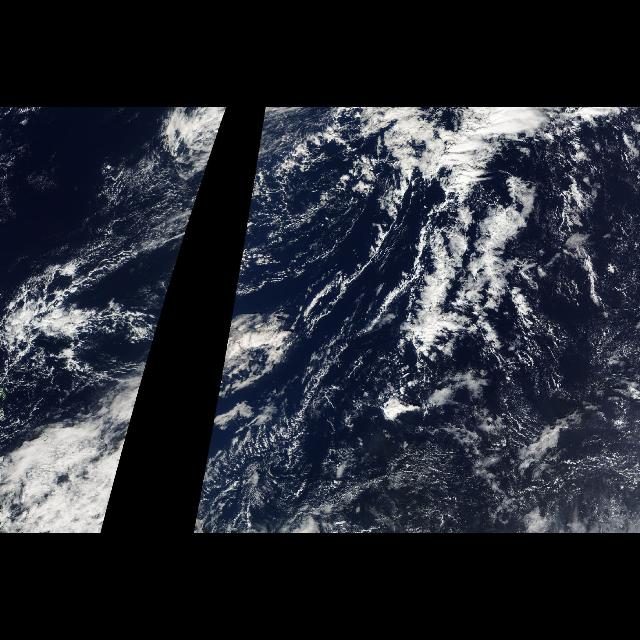Fish: (276, 186, 586, 420)
Gravel: (284, 404, 640, 524)
Sugar: (315, 423, 471, 529)
